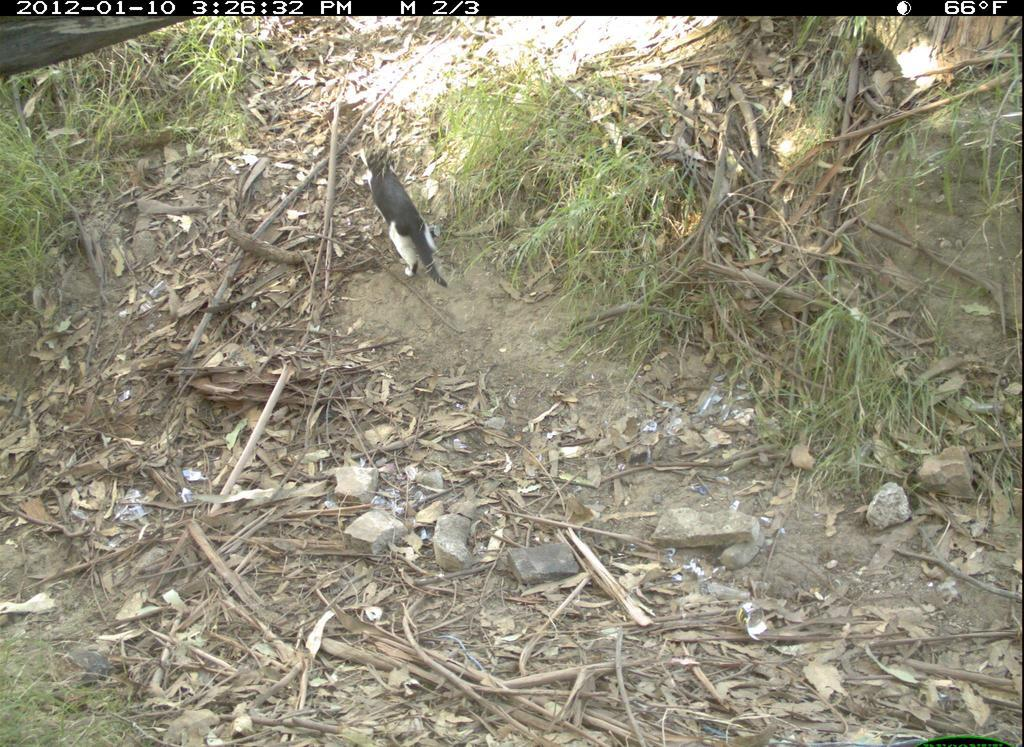cat: (357, 140, 455, 295)
